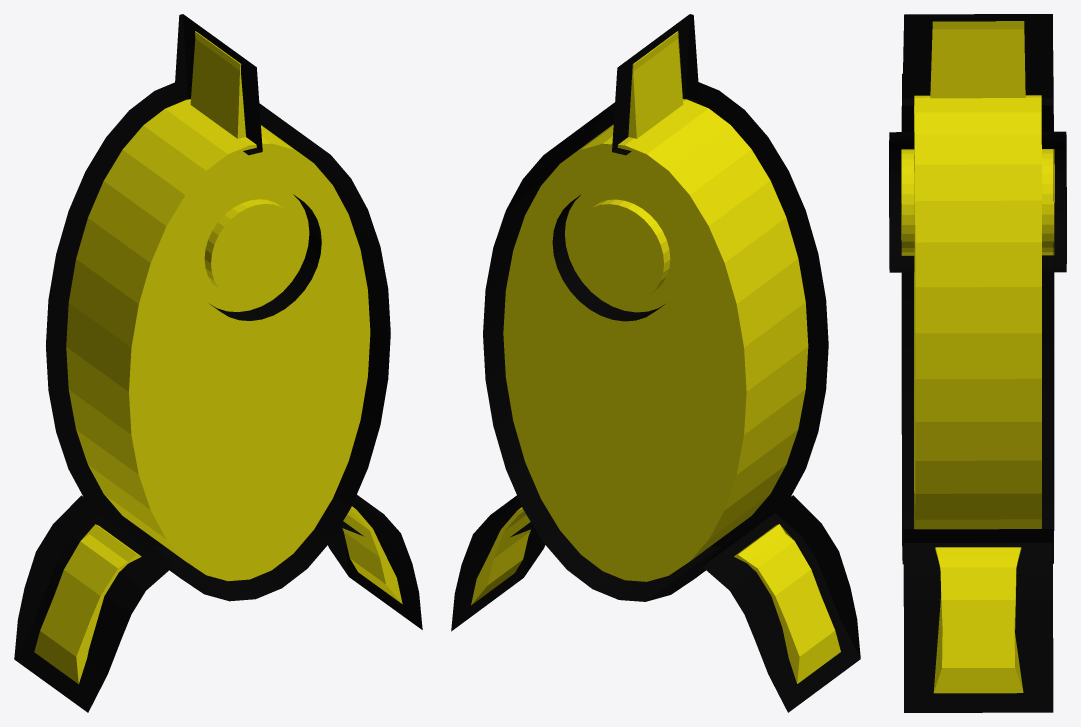
Rendered from Cohete.fbx.
3 views of the same model, side by side, from view 1: azimuth 30°, elevation 25°; view 2: azimuth 150°, elevation 25°; view 3: azimuth 270°, elevation 25° (orthographic).
Parts seen in each view (by area): view 1: Cylinder.002, Plane, Cylinder.001, Cube, Plane.001; view 2: Cylinder.002, Plane, Cylinder.001, Cube, Plane.001; view 3: Cylinder.002, Plane.001, Cube, Cylinder.001.
Part boxes in pixels (x1,y1,x2,y2): Cylinder.002: (46, 82, 390, 601); Plane: (14, 495, 173, 712); Cylinder.001: (204, 194, 321, 320); Cube: (174, 14, 262, 155); Plane.001: (322, 495, 422, 629); Cylinder.002: (483, 82, 828, 601); Plane: (702, 495, 860, 712); Cylinder.001: (552, 195, 670, 321); Cube: (612, 14, 699, 155); Plane.001: (451, 495, 550, 631); Cylinder.002: (901, 73, 1054, 564); Plane.001: (903, 529, 1053, 712); Cube: (902, 14, 1053, 105); Cylinder.001: (889, 131, 1066, 272).
Size of the model in its own units: 40.39 by 69.29 by 18.18.
